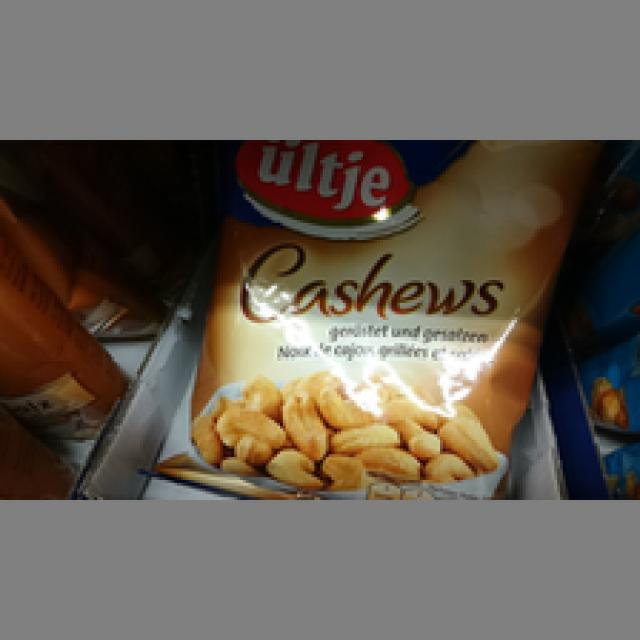groceries: (132, 140, 594, 494)
